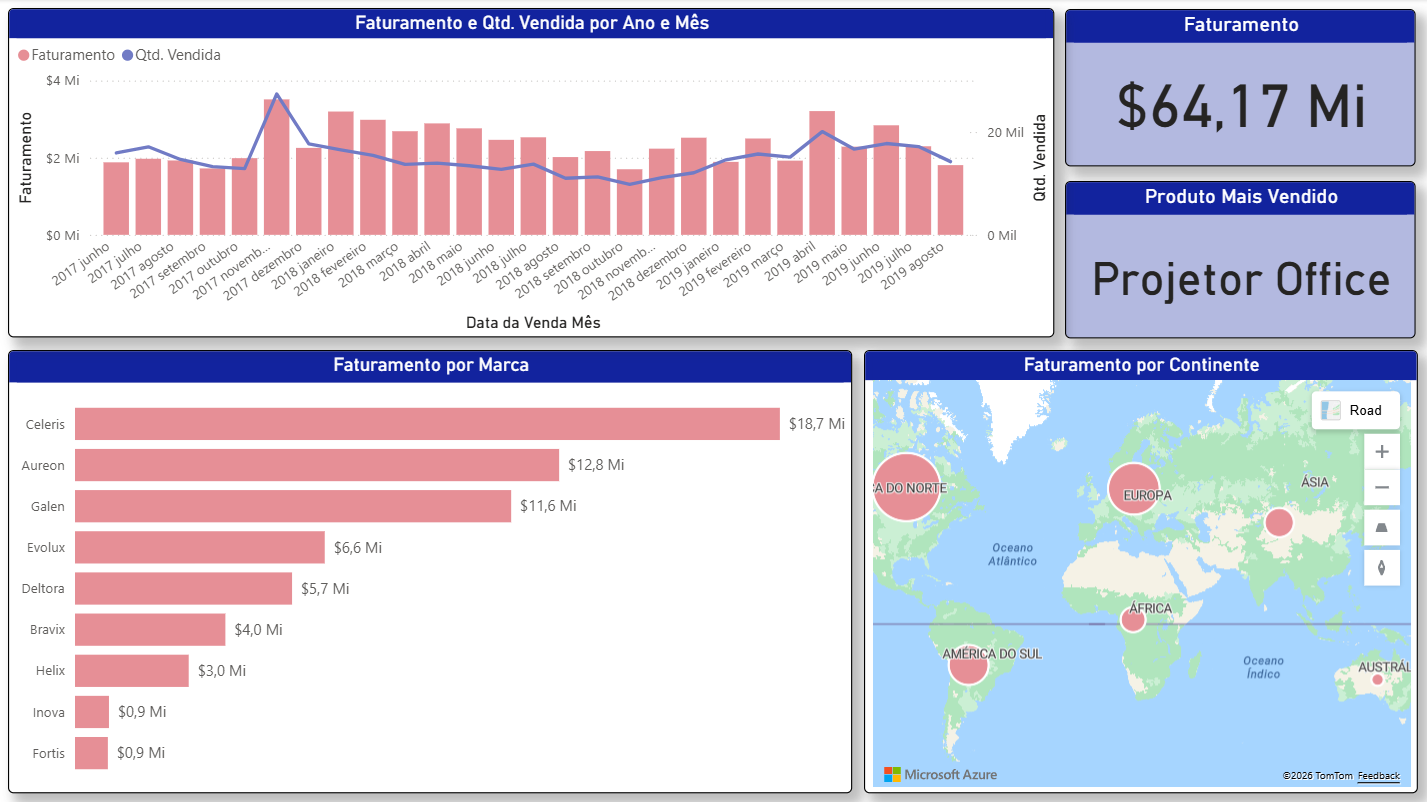

This screenshot's page, from the dashboard's own definition file:
{"tool":"powerbi","page":{"name":"Relatório de Vendas","canvas":[1280,720],"ordinal":0},"visuals":[{"type":"cardVisual","title":"Faturamento","fields":{"Data":["Sum(SalesData.Faturamento)"]},"box":[954.6,9,314.3,141.5],"z":0},{"type":"cardVisual","title":"Produto Mais Vendido","fields":{"Data":["Min(SalesData.Produto)"]},"box":[954.6,163,314.3,141.5],"z":1000},{"type":"barChart","fields":{"Category":["SalesData.Marca"],"Y":["Sum(SalesData.Faturamento)"]},"box":[8.4,314.8,756.2,396.8],"z":1001},{"type":"lineStackedColumnComboChart","fields":{"Category":["SalesData.Data da Venda.Variation.Hierarquia de datas.Ano","SalesData.Data da Venda.Variation.Hierarquia de datas.Mês"],"Y":["Sum(SalesData.Faturamento)"],"Y2":["Sum(SalesData.Qtd. Vendida)"]},"box":[8.4,8.4,937.1,295.5],"z":1002},{"type":"azureMap","fields":{"Category":["SalesData.Continente"],"Size":["Sum(SalesData.Faturamento)"]},"box":[774.3,314.8,495.7,396.8],"z":1003}]}

Visuals, with their boxes in screenshot pixels (x1, y1, x2, y2), scaled from the page's 1280x720 canvas onto the 1427x802 screenshot:
"Faturamento" cardVisual: (1064, 10, 1415, 168)
"Produto Mais Vendido" cardVisual: (1064, 182, 1415, 339)
barChart - SalesData.Marca x Sum(SalesData.Faturamento): (9, 351, 852, 793)
lineStackedColumnComboChart - SalesData.Data da Venda.Variation.Hierarquia de datas.Ano x SalesData.Data da Venda.Variation.Hierarquia de datas.Mês: (9, 9, 1054, 339)
azureMap - SalesData.Continente x Sum(SalesData.Faturamento): (863, 351, 1416, 793)
